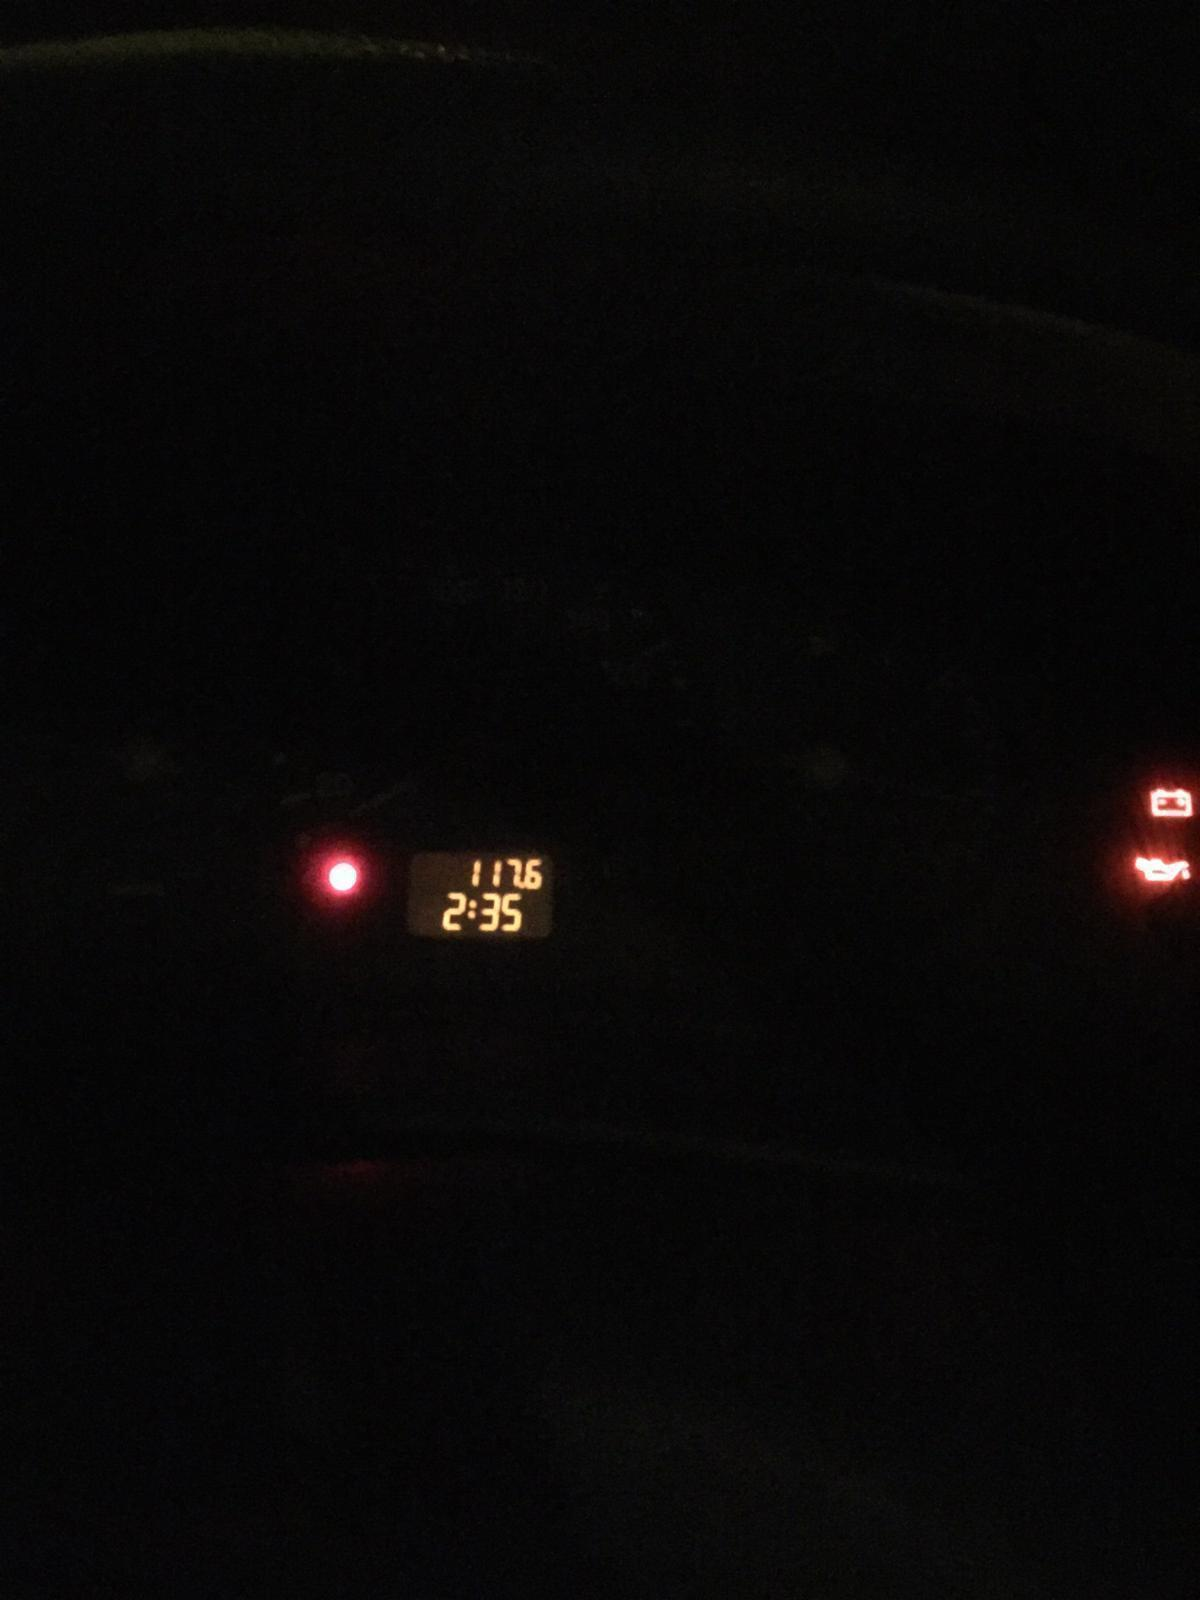,: (517, 881, 524, 889)
1: (470, 858, 483, 888), (492, 858, 503, 888)
2: (440, 891, 466, 931)
3: (476, 891, 500, 934)
5: (500, 892, 522, 932)
6: (523, 857, 545, 889)
7: (505, 857, 523, 888)
X: (466, 898, 478, 920)
odometer: (401, 847, 558, 946)
